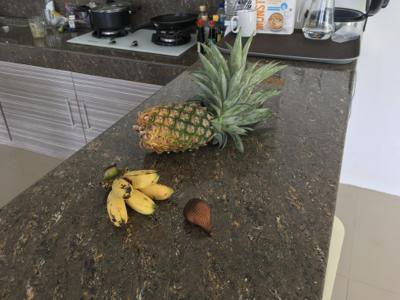banana: (185, 198, 214, 238)
pineapple: (133, 40, 282, 156)
snake fruit: (100, 164, 173, 228)
